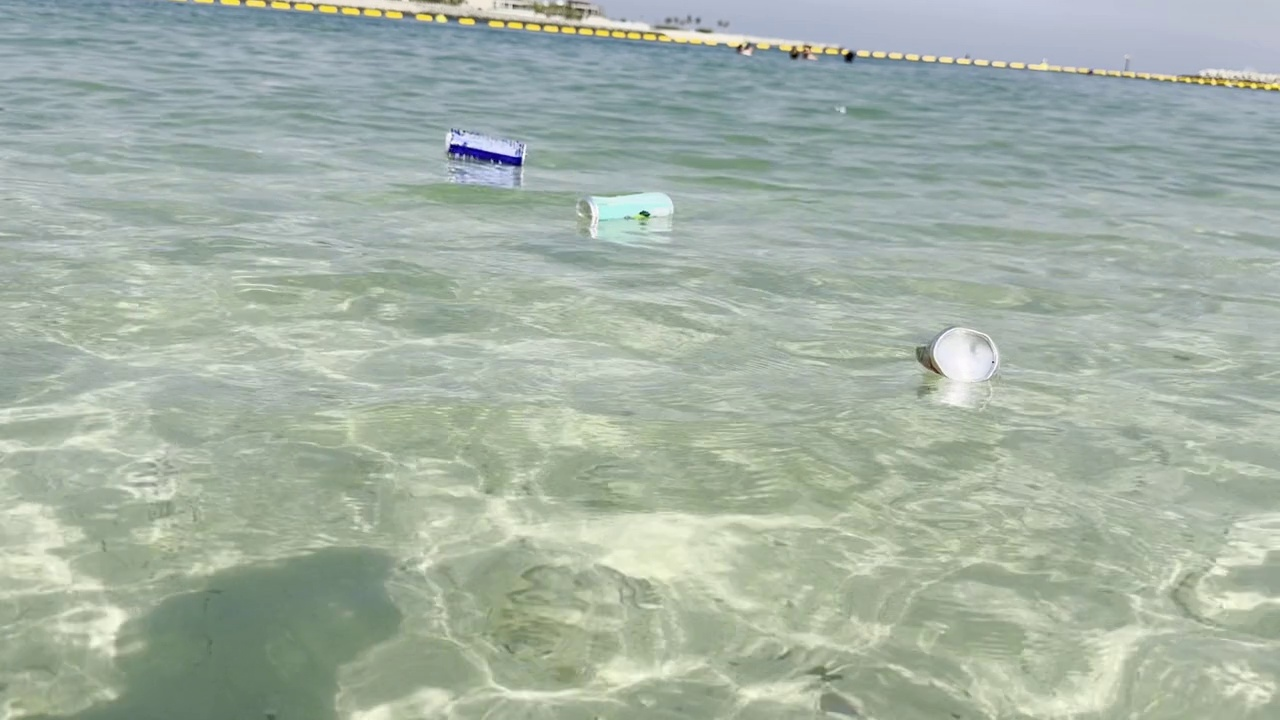debris: (567, 182, 694, 230), (915, 324, 1001, 388), (444, 123, 531, 173)
